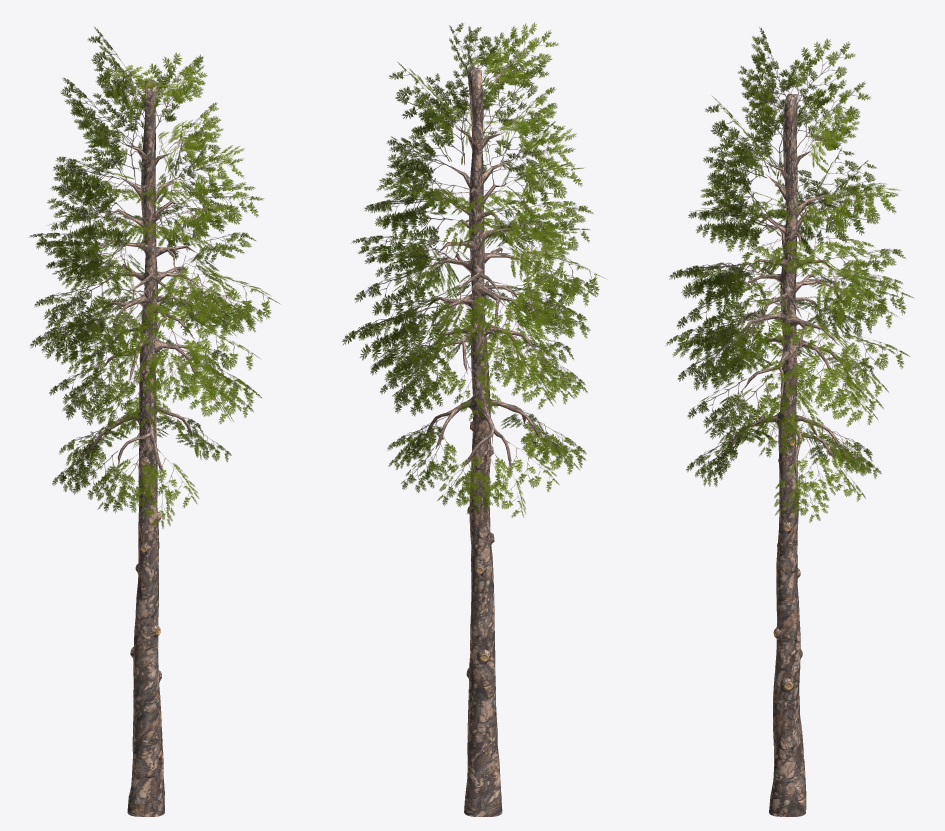
The model's file is pine1.glb.
3 renders of one model, left to right at view 1: azimuth 30°, elevation 25°; view 2: azimuth 150°, elevation 25°; view 3: azimuth 270°, elevation 25°, orthographic. The views are drawn at different scales.
Visible parts, largest first — view 1: tree; view 2: tree; view 3: tree.
Boxes of the visible parts, x1,y1,x2,y2 form: tree: [28, 27, 279, 816]; tree: [342, 22, 605, 816]; tree: [665, 27, 913, 816].
Size of the model in its own units: 6.79 by 21.98 by 7.23.
3 materials, 3 textured.
